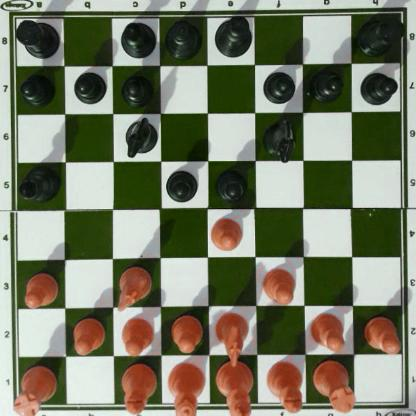black-bishop: (16, 166, 61, 202), (118, 20, 158, 56)
black-king: (213, 13, 254, 59)
black-knight: (263, 116, 296, 160), (124, 116, 156, 154)
black-pawn: (360, 69, 396, 105), (214, 166, 247, 202), (263, 67, 295, 102), (166, 166, 198, 201), (20, 72, 54, 104), (311, 67, 342, 102), (73, 70, 104, 104), (122, 71, 152, 105)
black-queen: (164, 20, 202, 59)
black-rook: (12, 16, 60, 58), (358, 10, 401, 55)
white-bishop: (120, 363, 157, 416), (265, 361, 302, 411)
white-king: (215, 358, 254, 416)
white-knight: (214, 311, 251, 367), (115, 263, 150, 308)
white-pawn: (363, 314, 400, 351), (262, 266, 296, 304), (22, 271, 58, 306), (169, 314, 202, 352), (120, 317, 153, 355), (70, 316, 103, 353), (210, 215, 242, 250)
white-queen: (166, 360, 204, 416)
white-rook: (15, 361, 55, 416), (315, 357, 353, 413)
